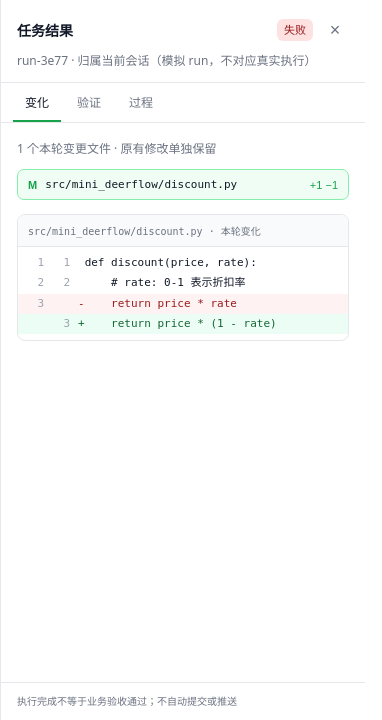
Scenario: TaskInspector 验证页签 › 失败：展示失败状态与命令输出
Click the tab "验证": (89,102) x1=65 y1=83 x2=113 y2=122
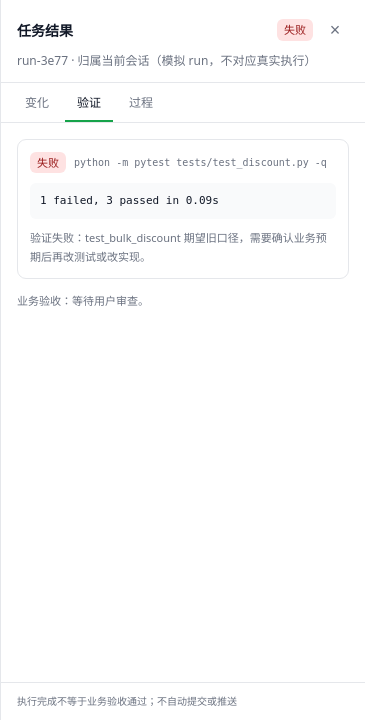
Result: the text with test id "validation-pill" reads "失败" at x1=37 y1=155 x2=59 y2=170
Result: the text "1 failed, 3 passed in 0.09s" is shown at x1=30 y1=183 x2=336 y2=219
